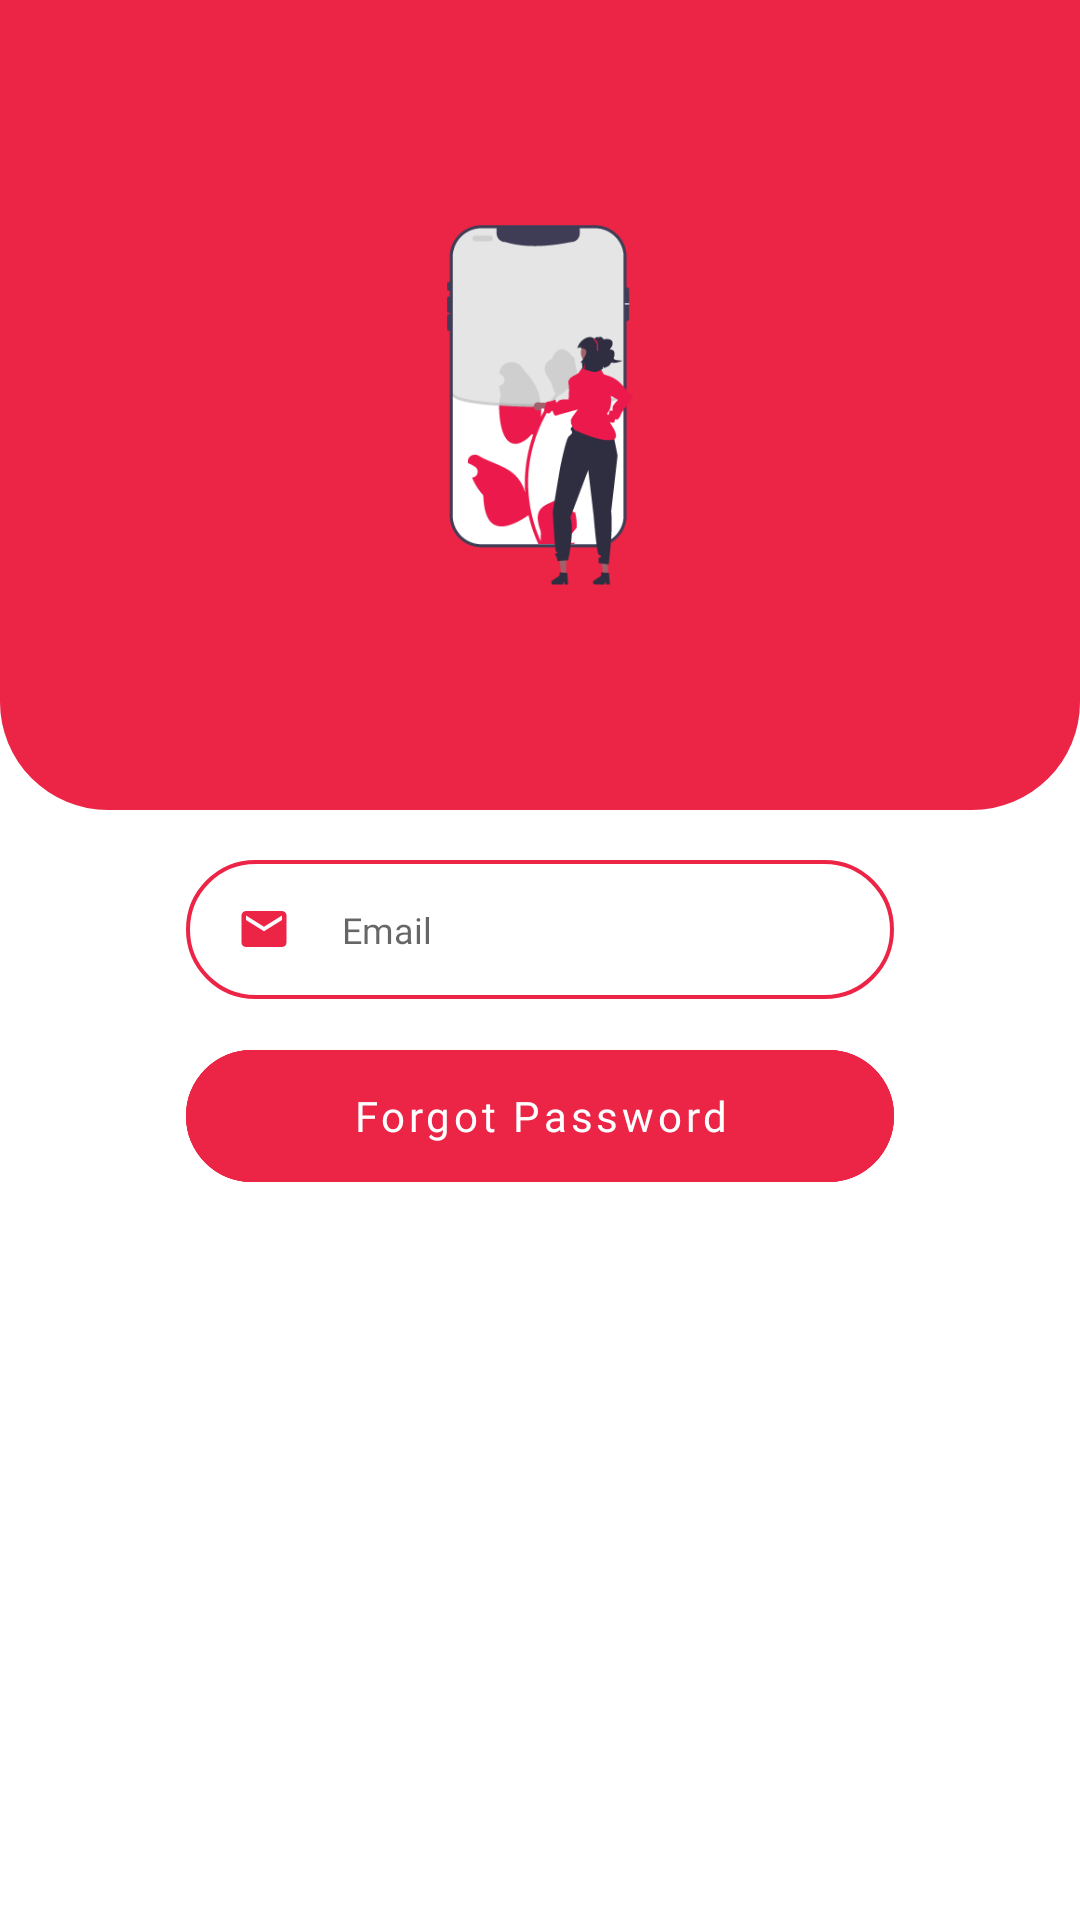

Screen size 1080*1920. Icon name, then its center in pixels as (x,y):
auth art: (538,405)
